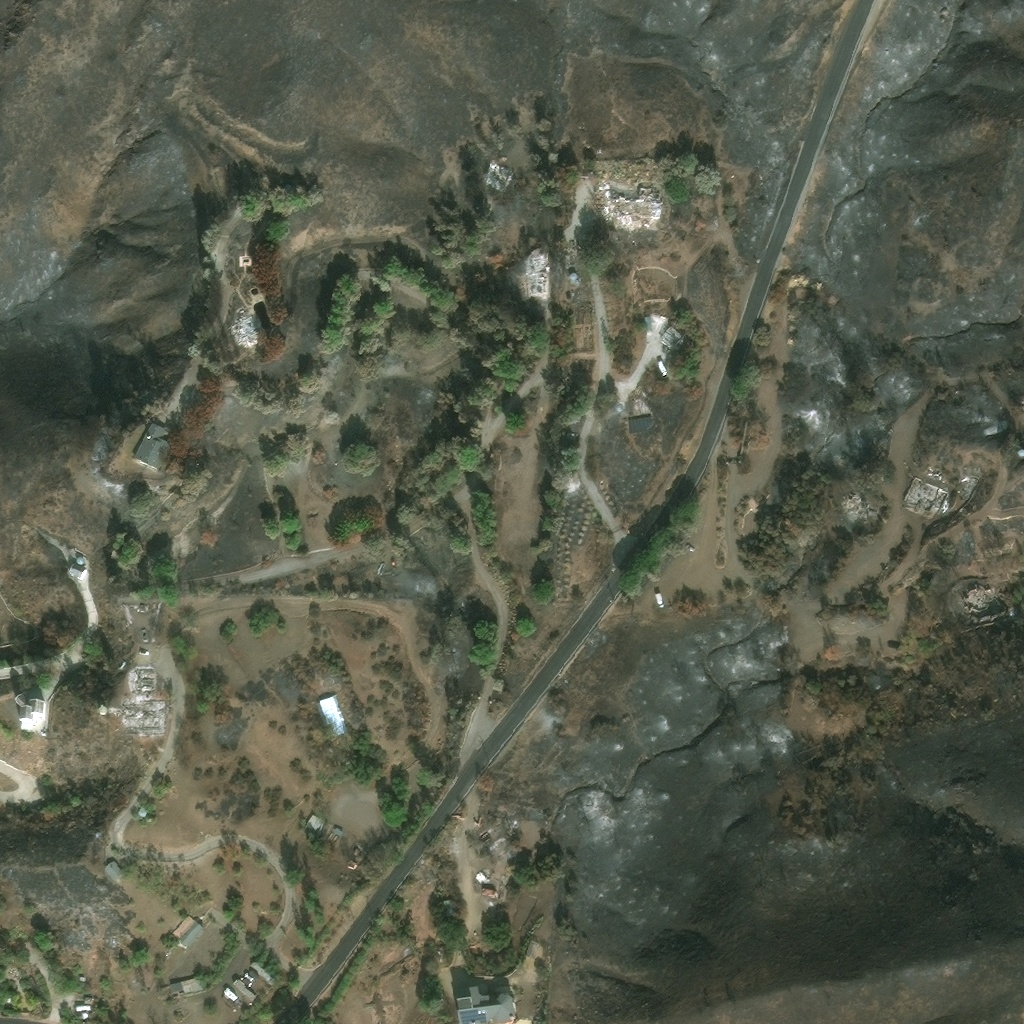0 no-damage: (131, 422, 179, 472), (454, 985, 517, 1023), (317, 693, 348, 739), (170, 914, 205, 950), (14, 692, 47, 729), (232, 978, 256, 1002), (102, 860, 124, 883), (249, 961, 271, 982), (68, 562, 87, 579), (220, 987, 238, 1002), (476, 870, 490, 887), (75, 1004, 93, 1014), (443, 900, 452, 912), (508, 818, 517, 827), (76, 555, 84, 564), (84, 995, 93, 1000), (569, 427, 576, 433), (78, 976, 86, 980)
1 minor-damage: (165, 976, 204, 999), (481, 887, 499, 898)
2 major-damage: (959, 581, 1007, 624), (903, 476, 951, 515), (659, 319, 689, 348), (303, 813, 329, 837), (649, 311, 669, 325), (332, 827, 343, 837)
3 destroyed: (591, 187, 661, 230), (518, 246, 550, 297), (120, 697, 164, 734), (229, 314, 262, 347), (202, 233, 227, 274), (487, 162, 513, 189), (132, 669, 153, 694), (961, 477, 979, 500), (1007, 442, 1023, 461), (925, 464, 940, 478), (566, 250, 577, 268), (240, 255, 255, 268), (96, 704, 108, 716), (568, 273, 577, 280), (621, 199, 628, 204), (630, 199, 636, 204)
